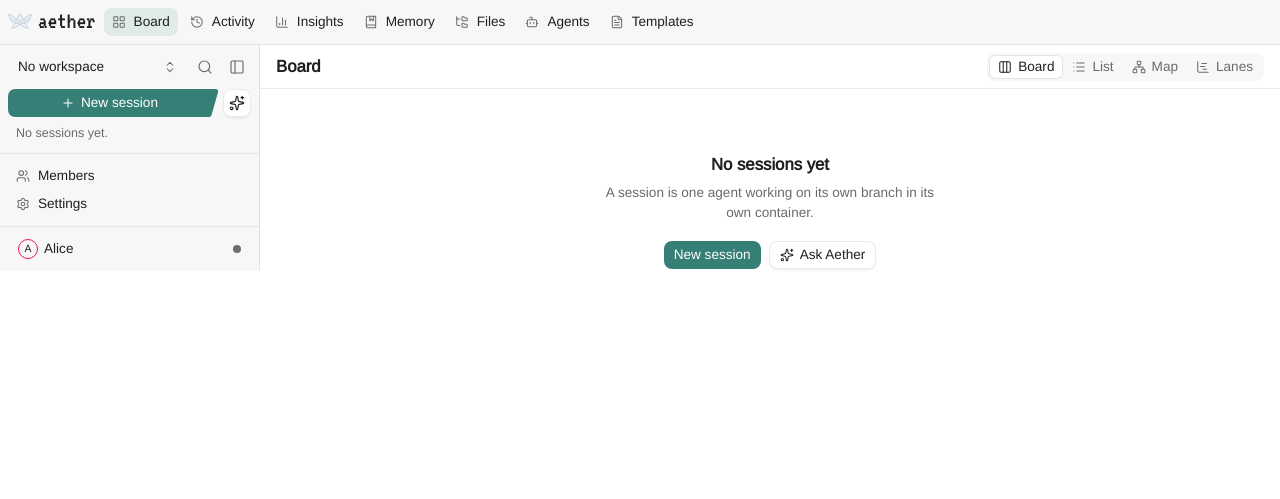
Test: entry points › offers Ask Aether on an empty board
Click the 11th button named "Ask Aether".
click(823, 255)  # box [769, 241, 876, 269]
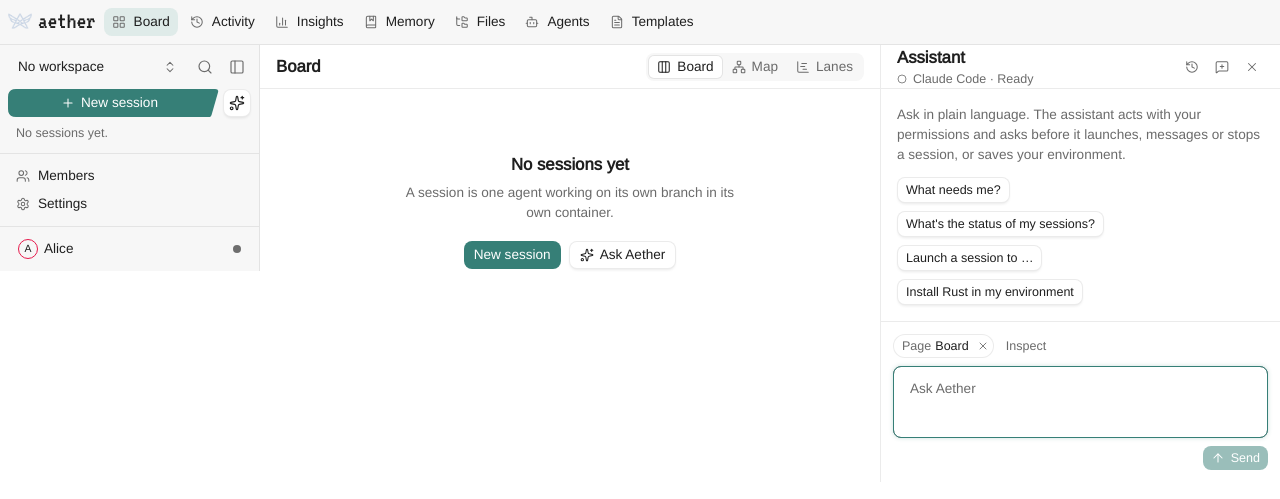
Expected: the element named "Assistant" is shown, [880, 45, 1279, 482]
